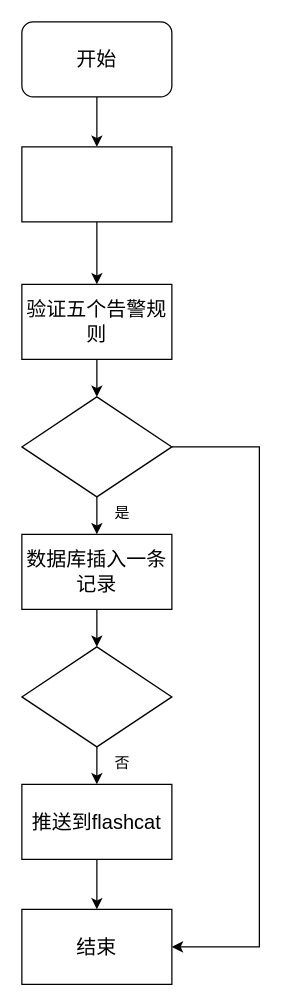
Some shapes in this 291 by 1006 pixel diagram are drawn without their labels. Each missing label, with the centre of its shape:
拉取积分消息: pixel 96 184
是否插入成功: pixel 96 696
是否通过 所有规则: pixel 96 446
